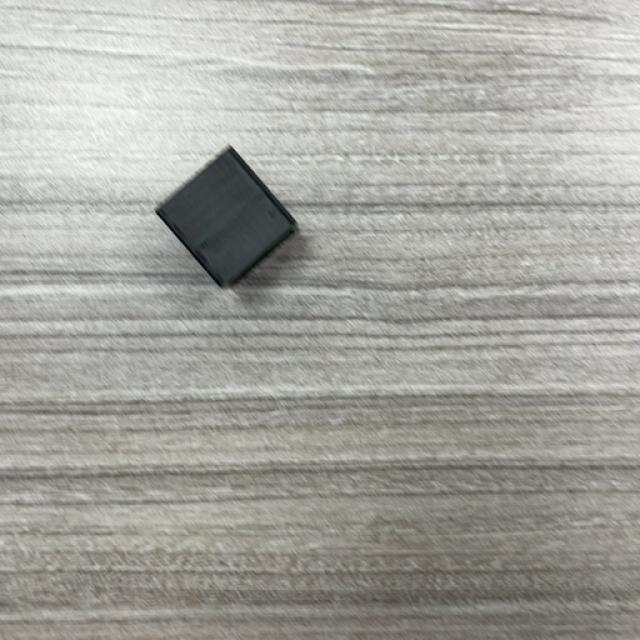Negro: (154, 146, 299, 290)
